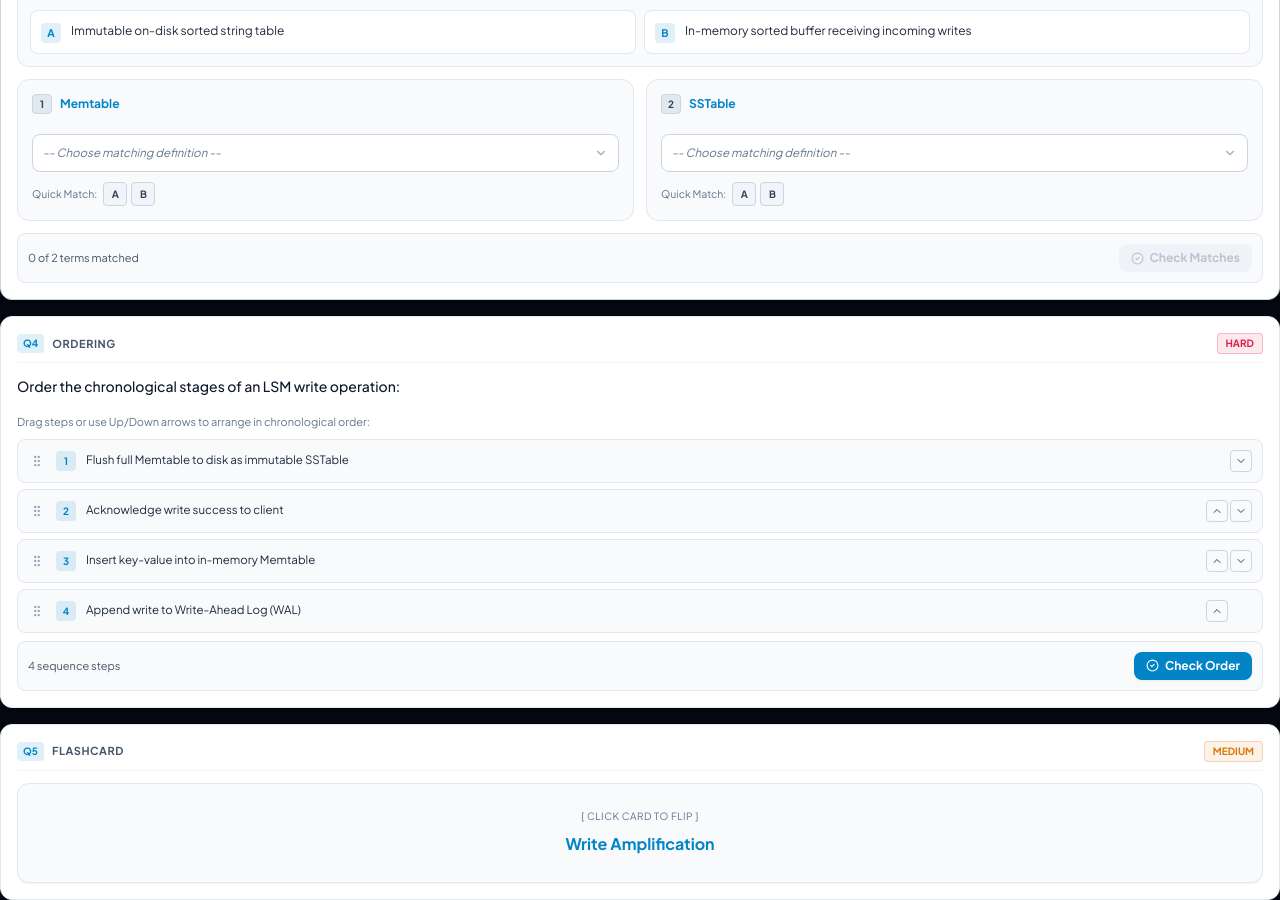
Test: QuizViewer Component › interacts with ORDERING questions: reorders steps, checks order, and resets
Expected: the text "Append write to Write-Ahead Log (WAL)" is shown, [86,602,301,617]
Expected: the text "Flush full Memtable to disk as immutable SSTable" is shown, [86,452,349,467]
// Click move up on second step
What coordinates should you click on to do the following:
click the button titled "Move Step Up"
I would click on:
 (1217, 510)
Its box is [1206,500,1228,522].
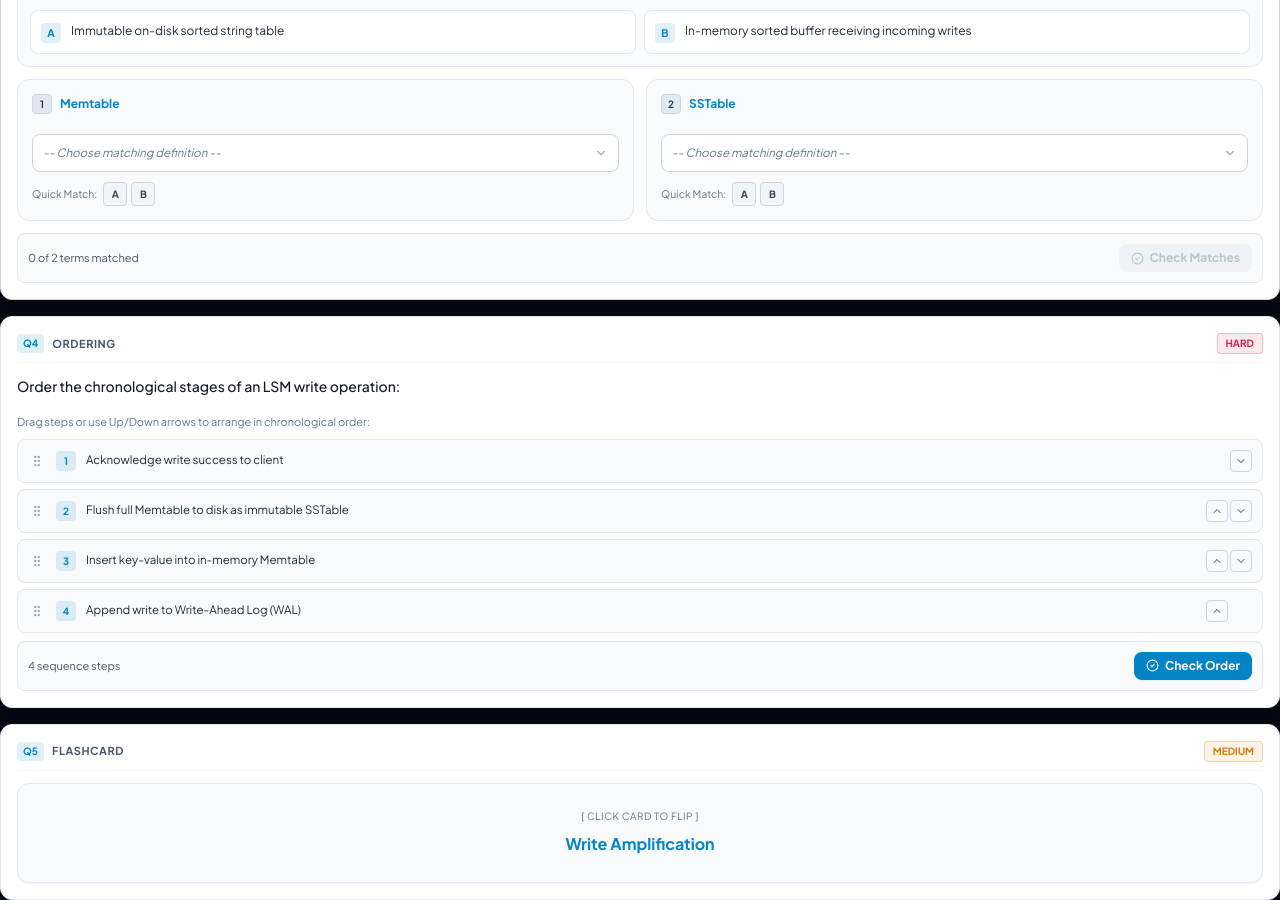
// Check Order
What coordinates should you click on to do the following:
click the button "Check Order"
I would click on:
 (1193, 666)
Its box is [1134,652,1252,680].
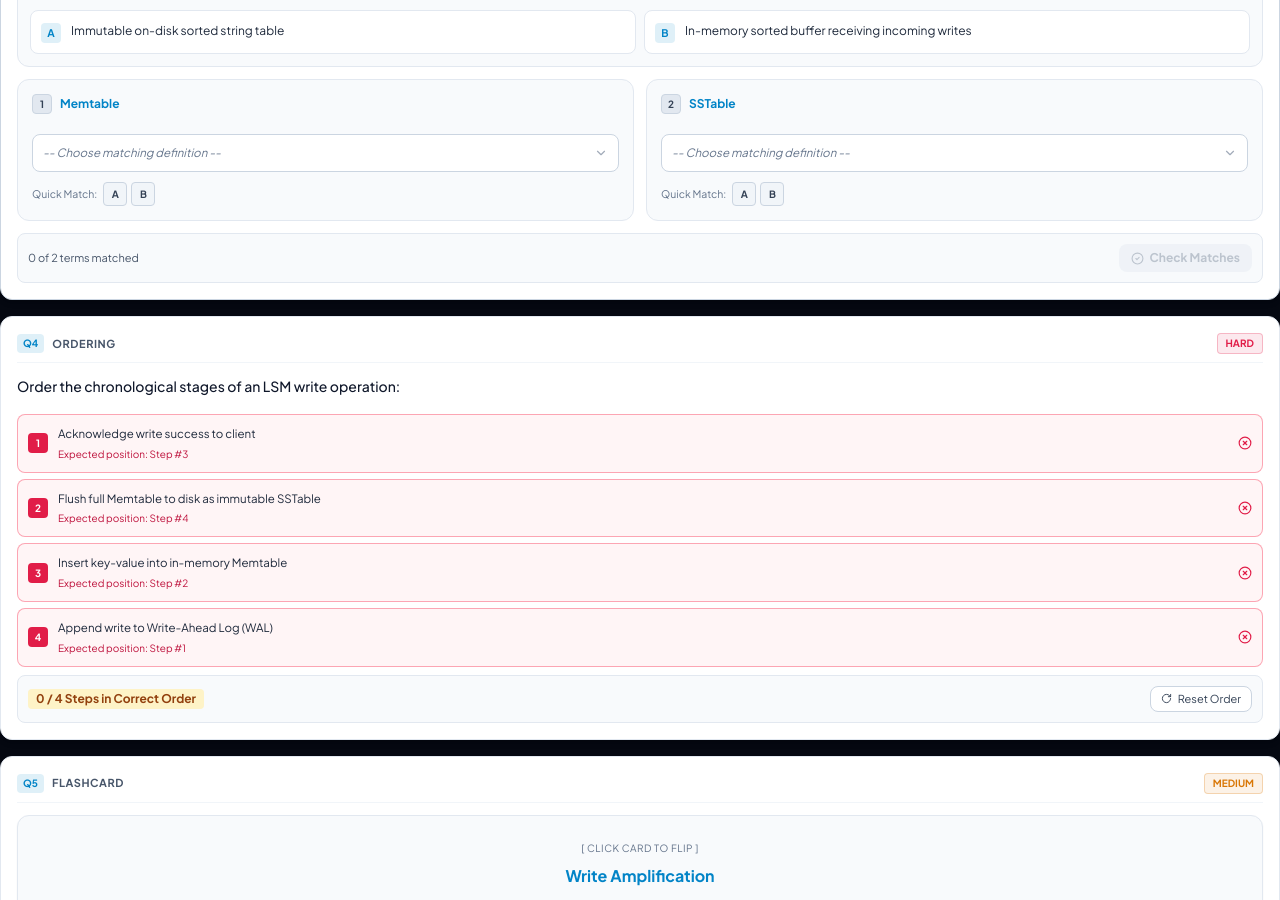
Expected: the button "Reset Order" is shown
What coordinates should you click on to do the following:
click the button "Reset Order"
I would click on:
 (1201, 699)
Its box is [1150,686,1252,712].
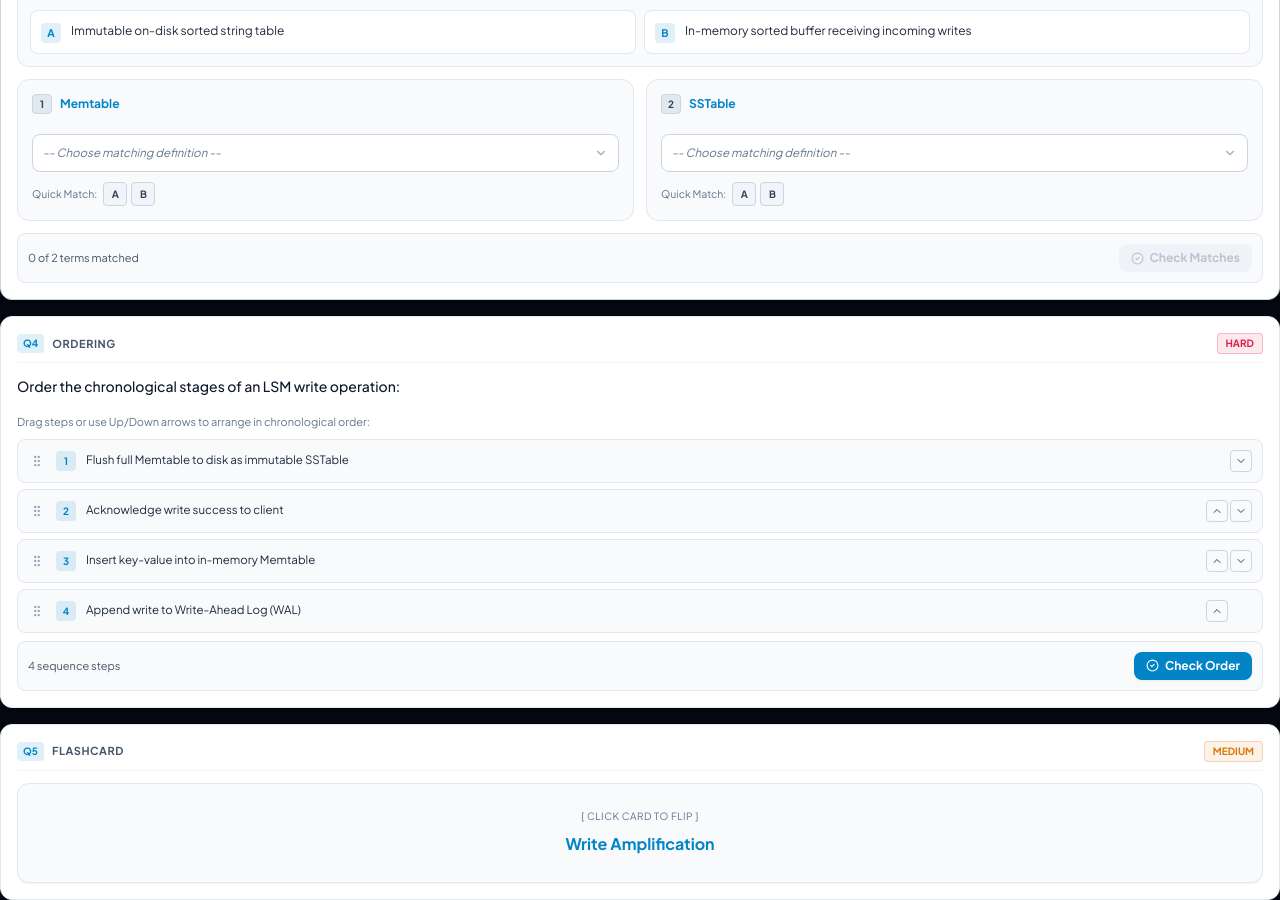
Expected: the button "Check Order" is shown, [1134,652,1252,680]
